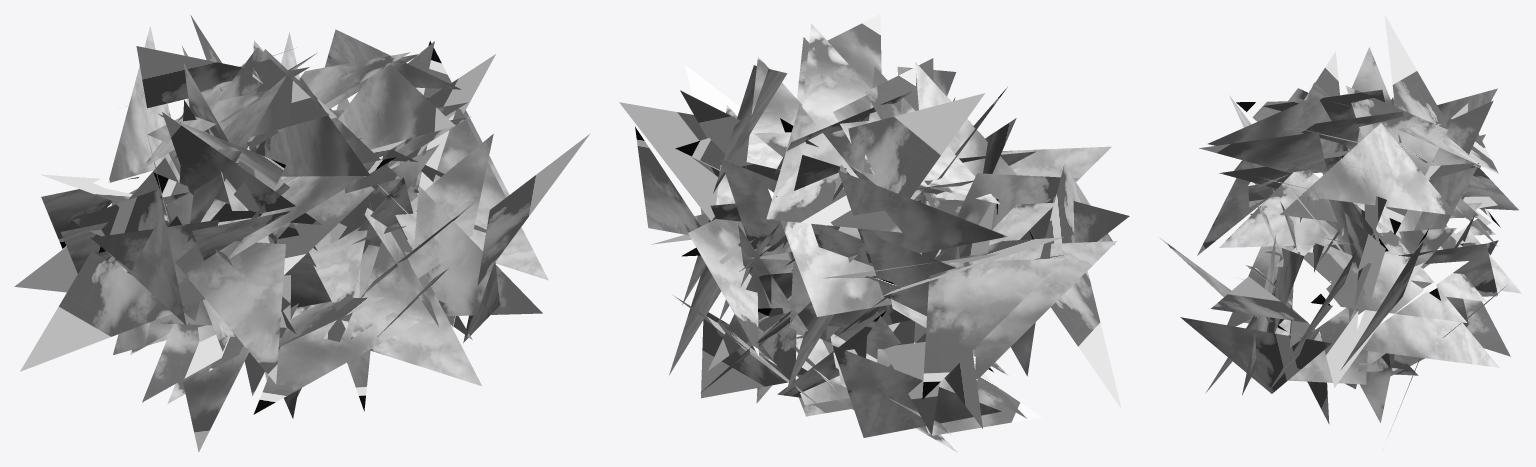
The model's file is cloud.fbx.
3 renders of one model, left to right at view 1: azimuth 30°, elevation 25°; view 2: azimuth 150°, elevation 25°; view 3: azimuth 270°, elevation 25°, orthographic. The views are drawn at different scales.
Parts seen in each view (by area): view 1: Plane.016; view 2: Plane.016; view 3: Plane.016.
Part boxes in pixels (box(x1,y1,x2,y2)): Plane.016: box(14, 15, 590, 452); Plane.016: box(619, 14, 1129, 452); Plane.016: box(1159, 14, 1521, 431).
Bounding box in the file's own units: 823 × 583 × 601.
1 material, 1 textured.
